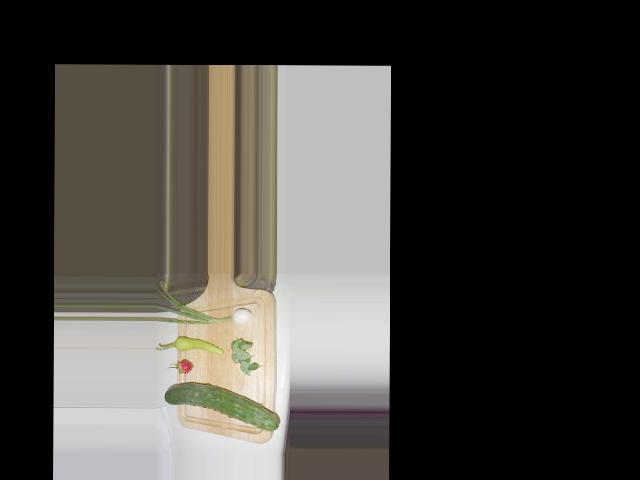cucumber: (165, 382, 279, 431)
